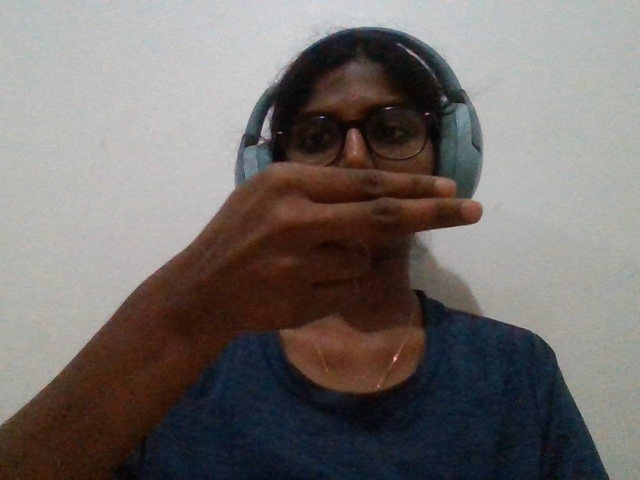H: (120, 118, 523, 394)
